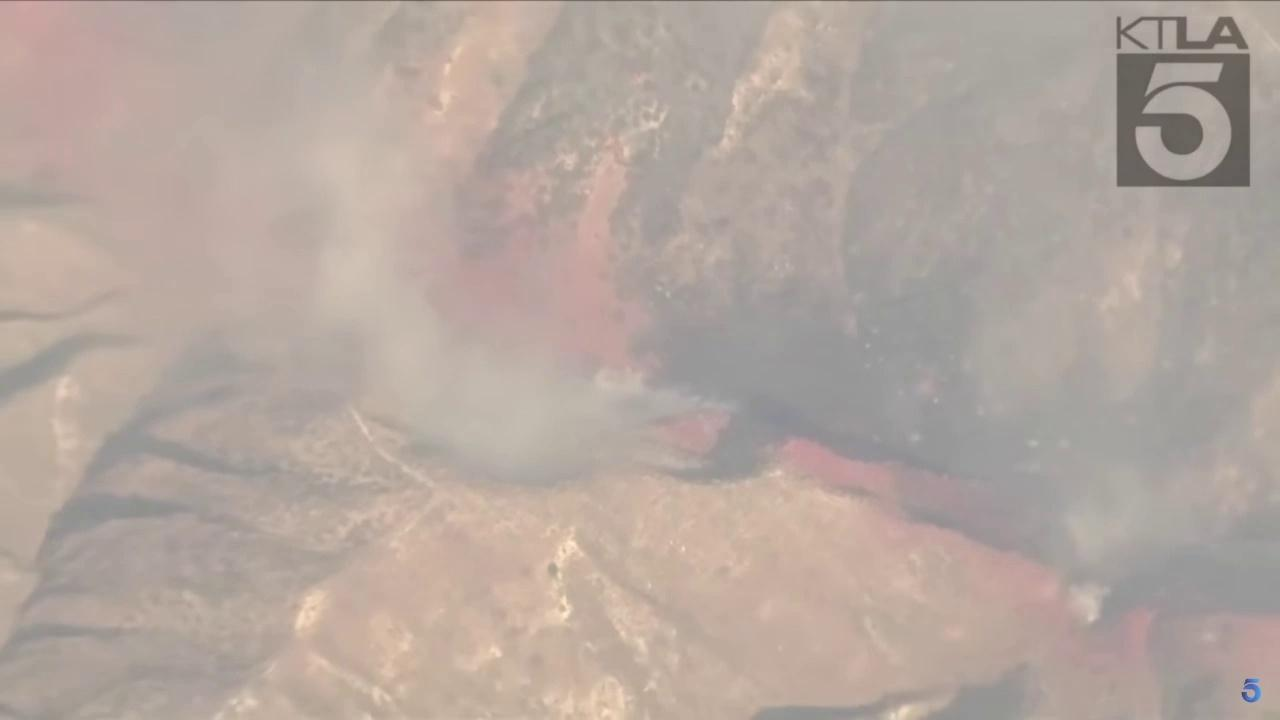smoke: (182, 0, 744, 485), (1067, 580, 1111, 624)
